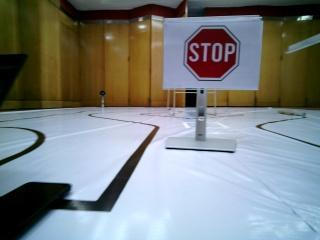stop: (166, 25, 261, 83)
